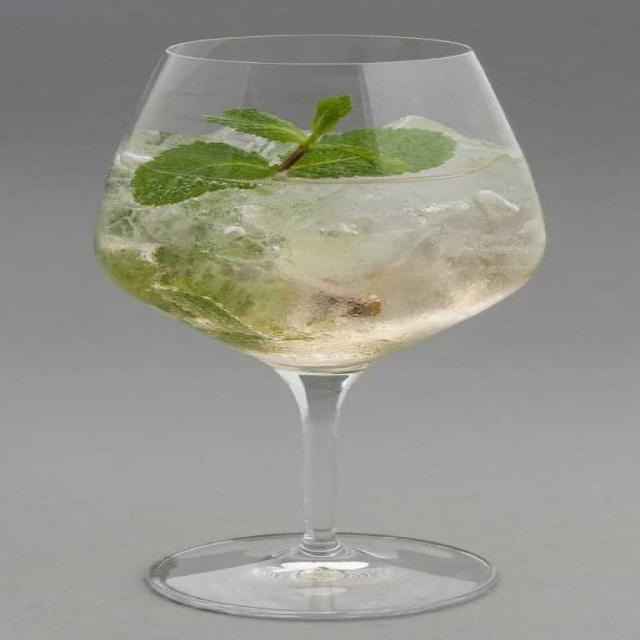cocktail: (108, 111, 534, 366)
